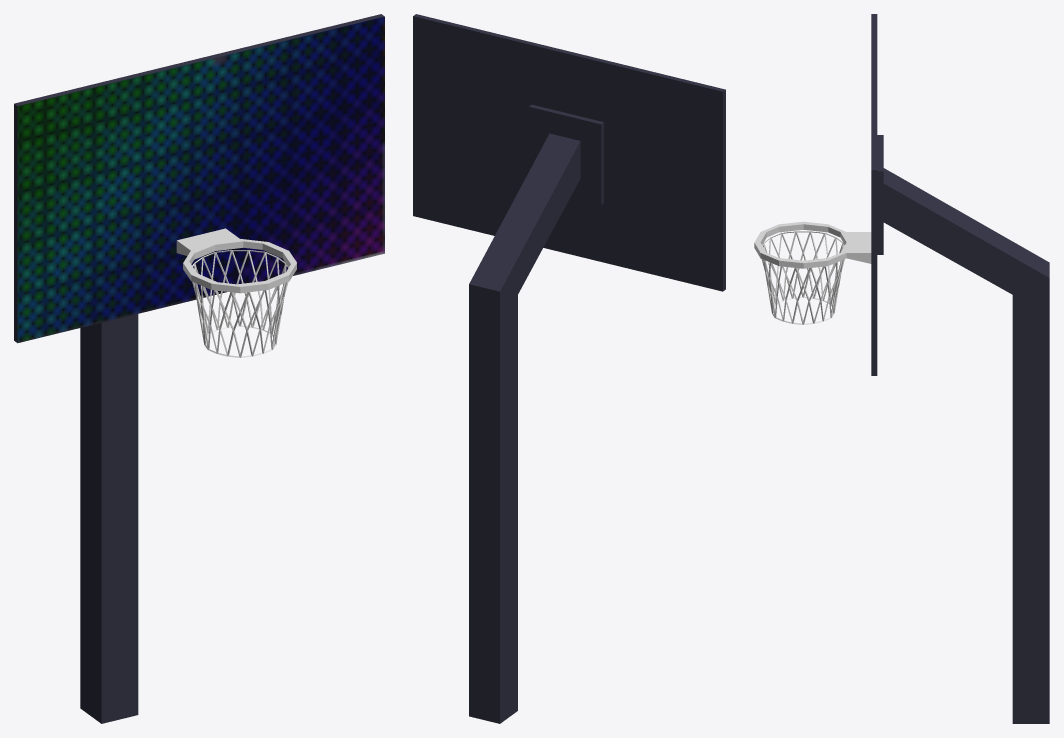
File: BasketballPole.fbx
3 renders of one model, left to right at view 1: azimuth 30°, elevation 25°; view 2: azimuth 150°, elevation 25°; view 3: azimuth 270°, elevation 25°, orthographic. The views are drawn at different scales.
Parts seen in each view (by area): view 1: BasketPole, Net, Basket, Support; view 2: BasketPole; view 3: BasketPole, Net, Basket, Support.
Boxes of the visible parts, x1,y1,x2,y2 form: BasketPole: (14,14,384,723); Net: (192,250,288,357); Basket: (183,238,296,293); Support: (176,228,239,255); BasketPole: (413,14,725,723); BasketPole: (871,14,1049,723); Net: (761,231,844,324); Basket: (754,221,852,268); Support: (846,232,871,263).
Size of the model in its own units: 188 by 150 by 350.
